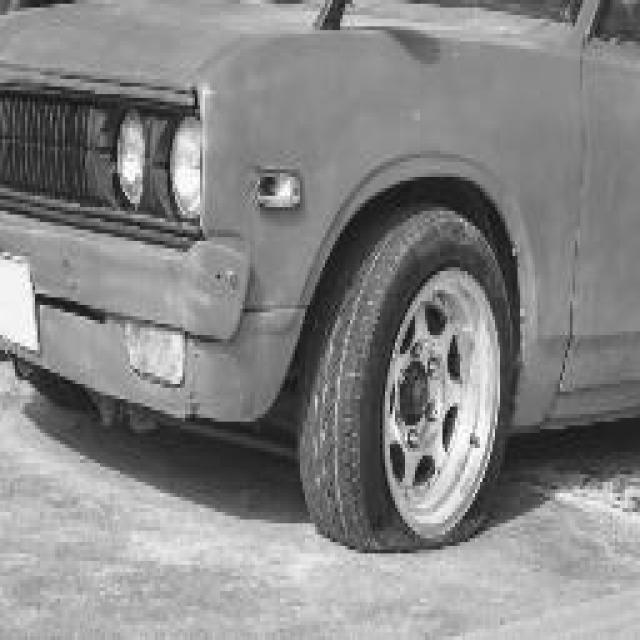Bumper: (120, 248, 292, 433)
